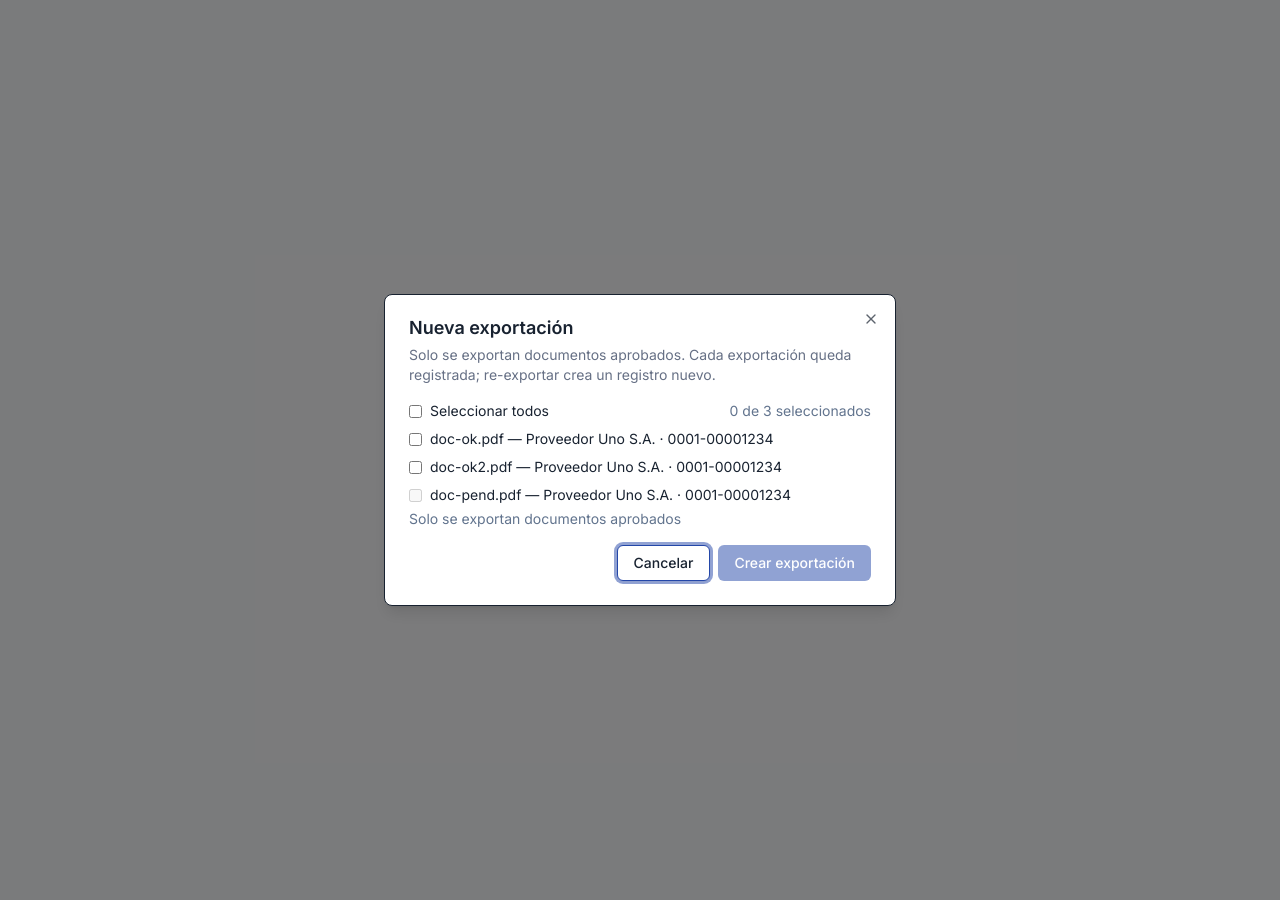
CreateExportDialog › ítem 5: seleccionar todos solo toca aprobados, con indeterminado
// Un solo aprobado → estado intermedio.
Click the checkbox labelled "doc-ok.pdf — Proveedor Uno S.A. · 0001-00001234" at (416, 439), box [409,432,422,446]
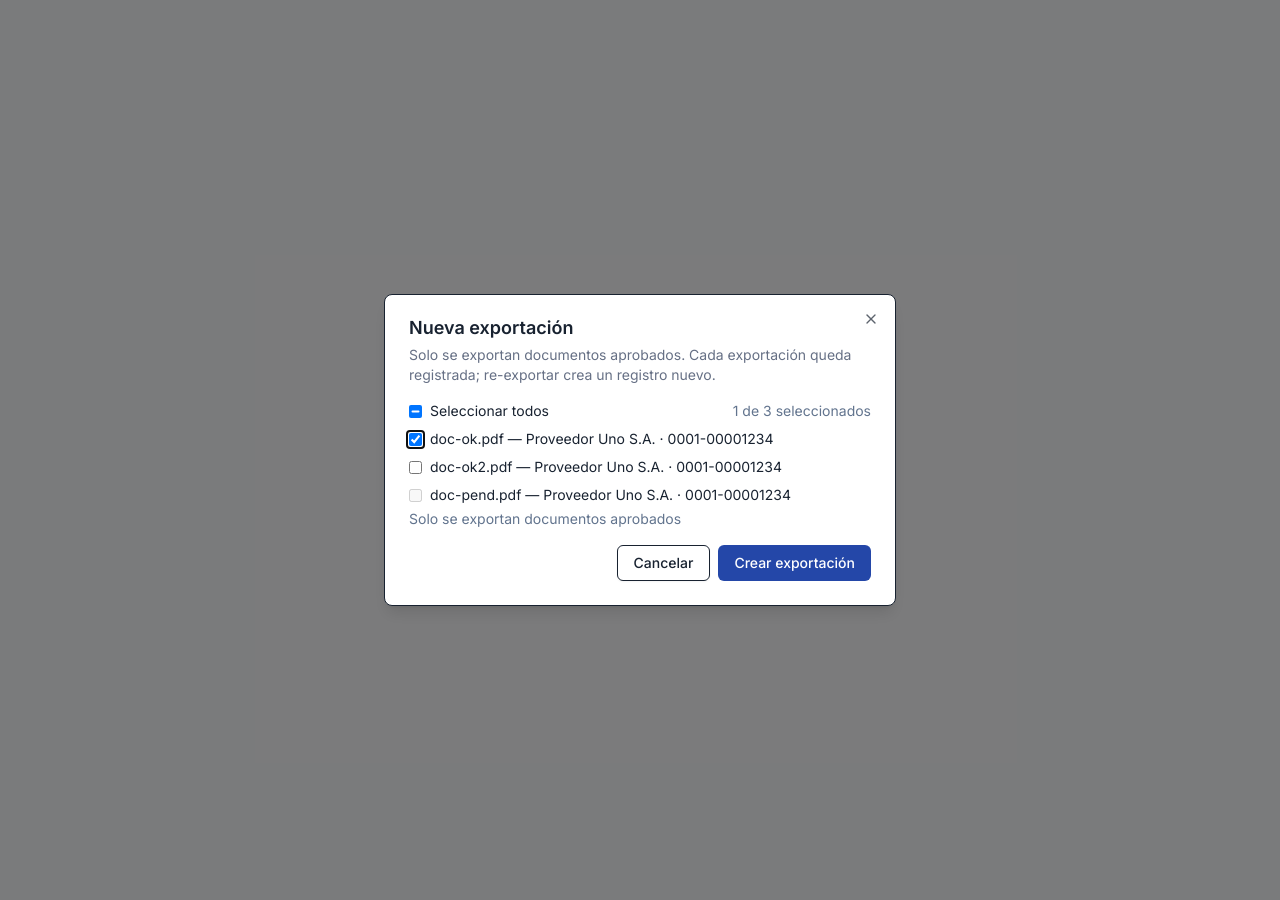
// Tildar el maestro → los 2 aprobados, nunca el no aprobado.
Click the checkbox labelled "Seleccionar todos" at (416, 411), box [409,404,422,418]
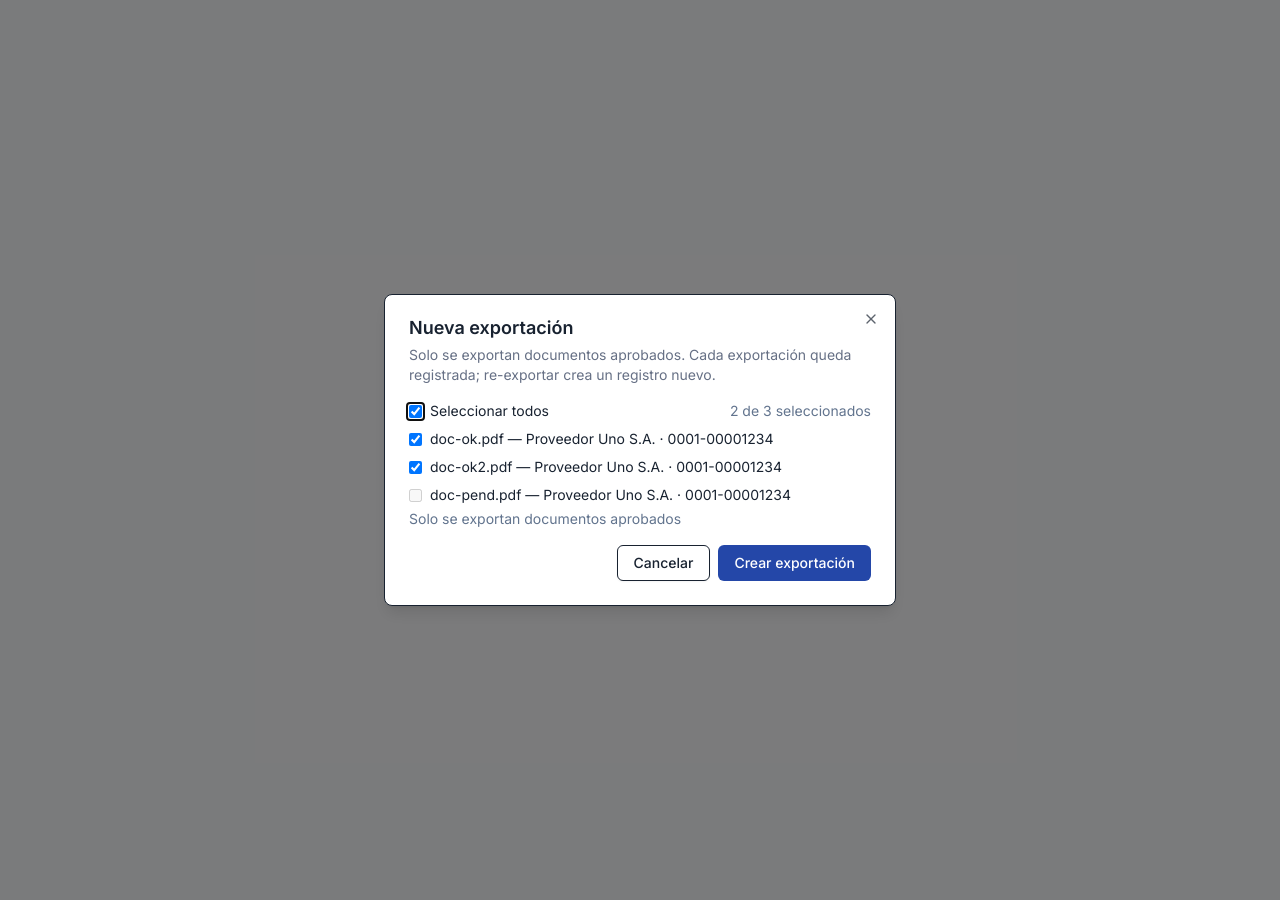
Expected: the checkbox labelled "doc-pend.pdf — Proveedor Uno S.A. · 0001-00001234" is not checked, [409,488,422,502]
Expected: the text "2 de 3 seleccionados" is shown, [730,401,871,421]
Click the button "Crear exportación" at (795, 563), box [718,545,871,581]
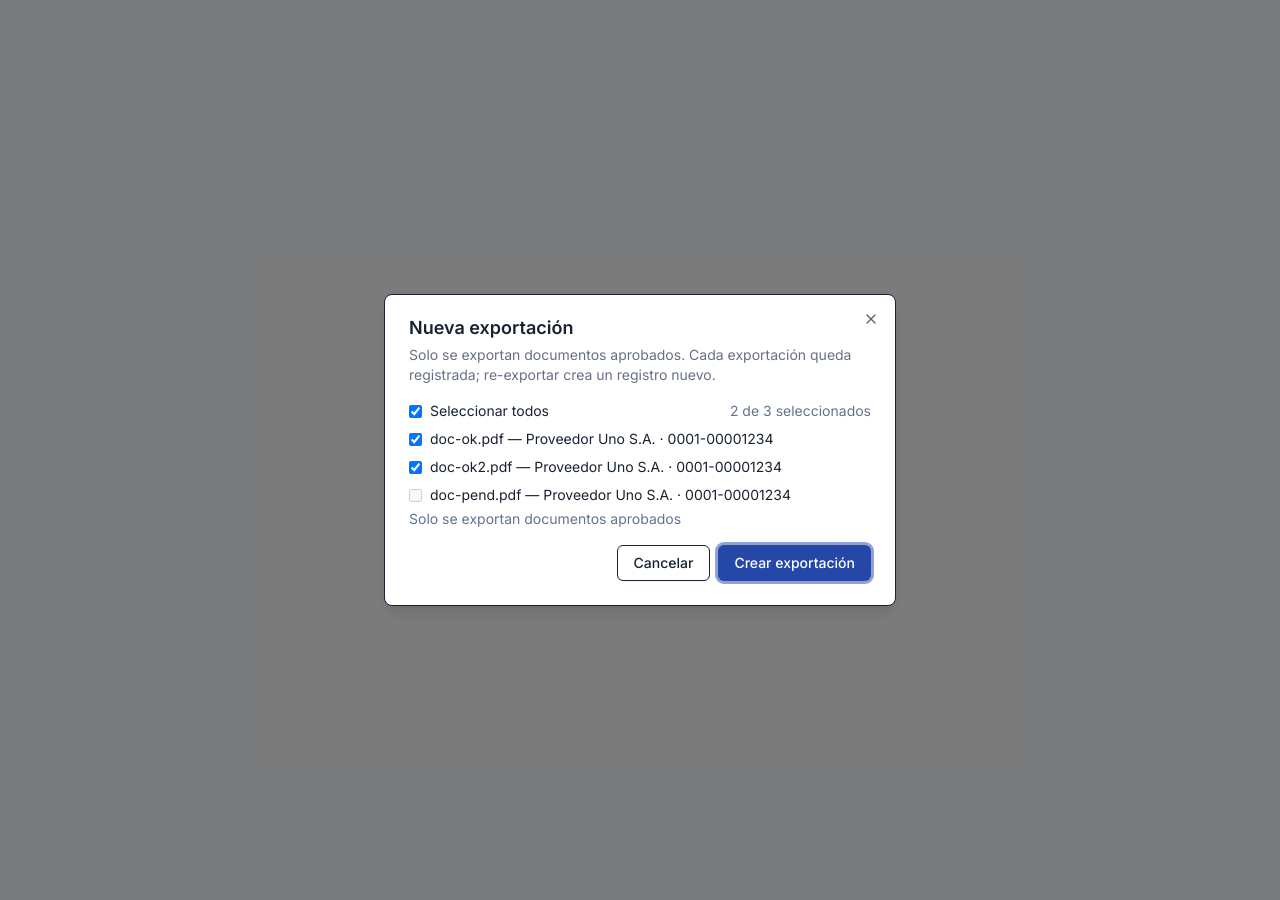
// Destildar el maestro → limpia la selección.
Click the checkbox labelled "Seleccionar todos" at (416, 411), box [409,404,422,418]
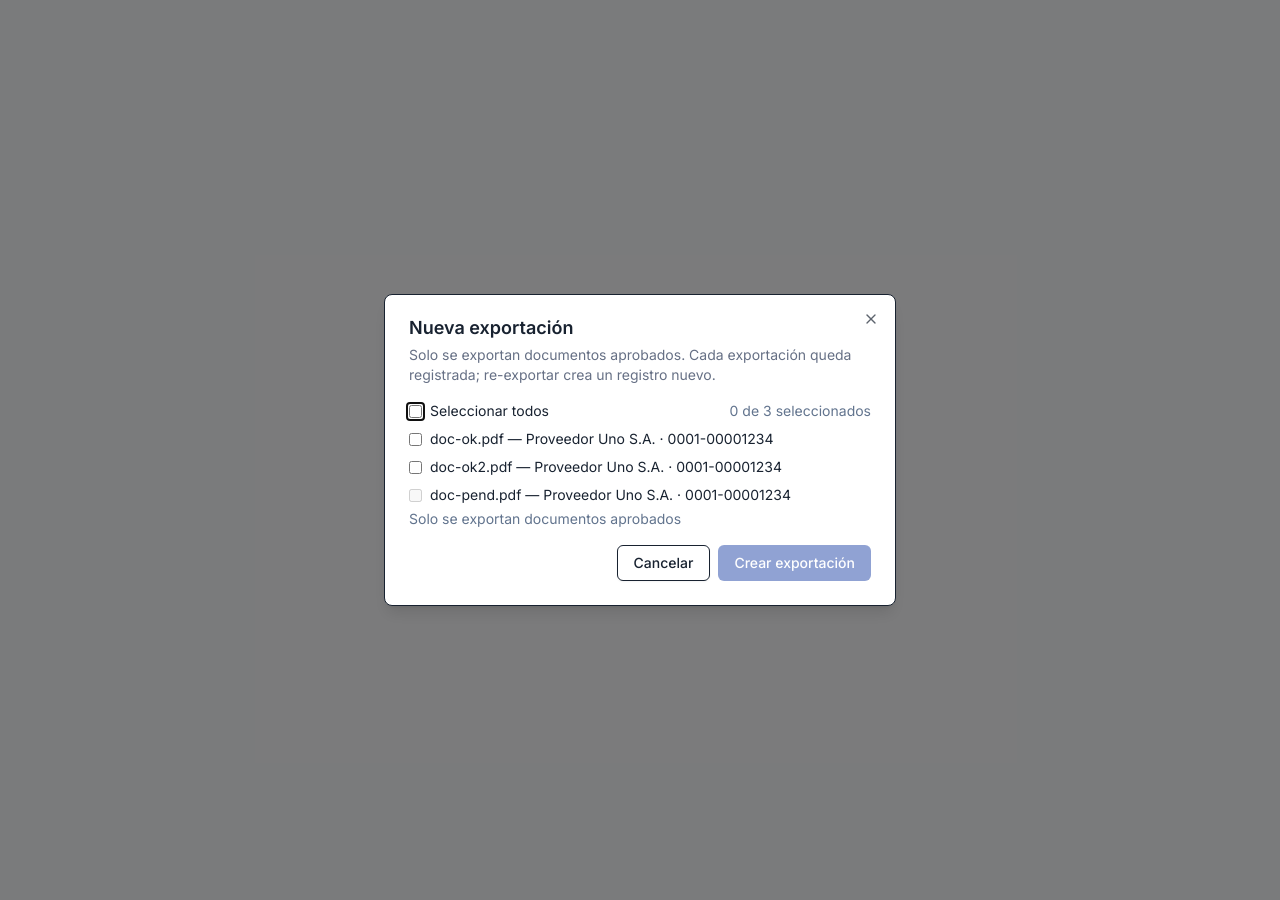
Expected: the text "0 de 3 seleccionados" is shown, [730,401,871,421]
Expected: the button "Crear exportación" is disabled, [718,545,871,581]
